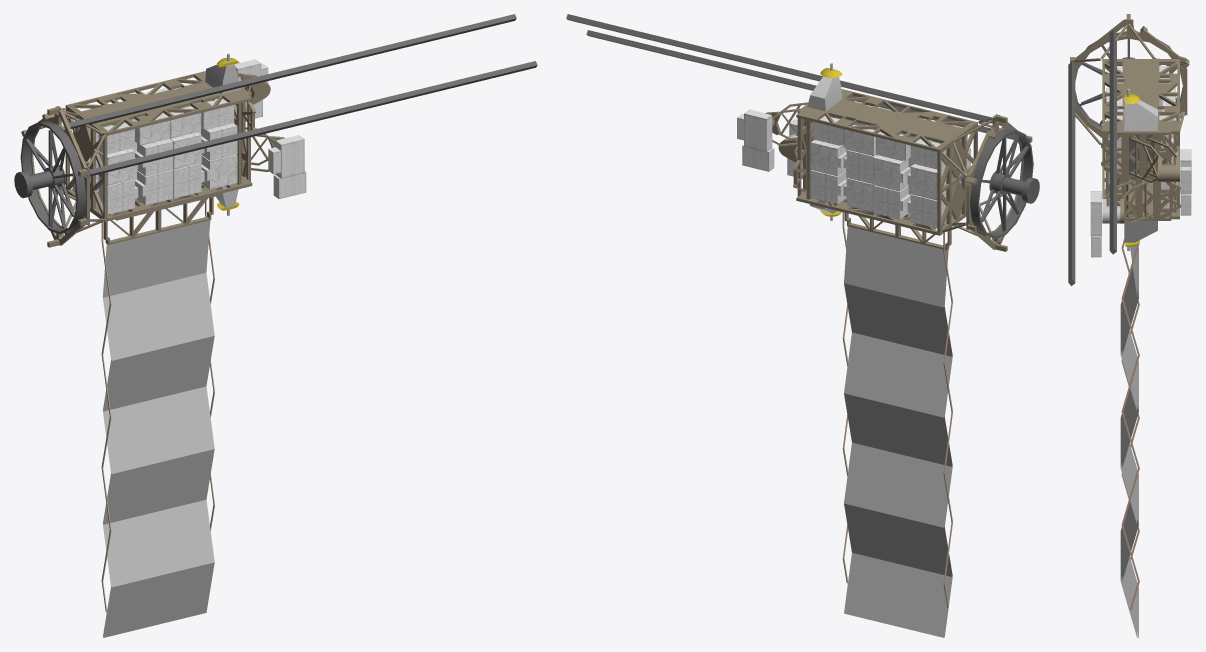
3 views of the same model, side by side, from view 1: azimuth 30°, elevation 25°; view 2: azimuth 150°, elevation 25°; view 3: azimuth 270°, elevation 25° (orthographic). The views are drawn at different scales.
Visible parts, largest first — view 1: p4; view 2: p4; view 3: p4.
Boxes of the visible parts, x1,y1,x2,y2 form: p4: (14,14,537,637); p4: (566,14,1039,637); p4: (1068,14,1191,637).
Size of the model in its own units: 16.11 by 17.64 by 3.55.
Materials: 7 (3 with a texture image).
